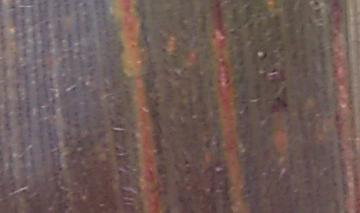tarspot: (274, 94, 290, 111)
